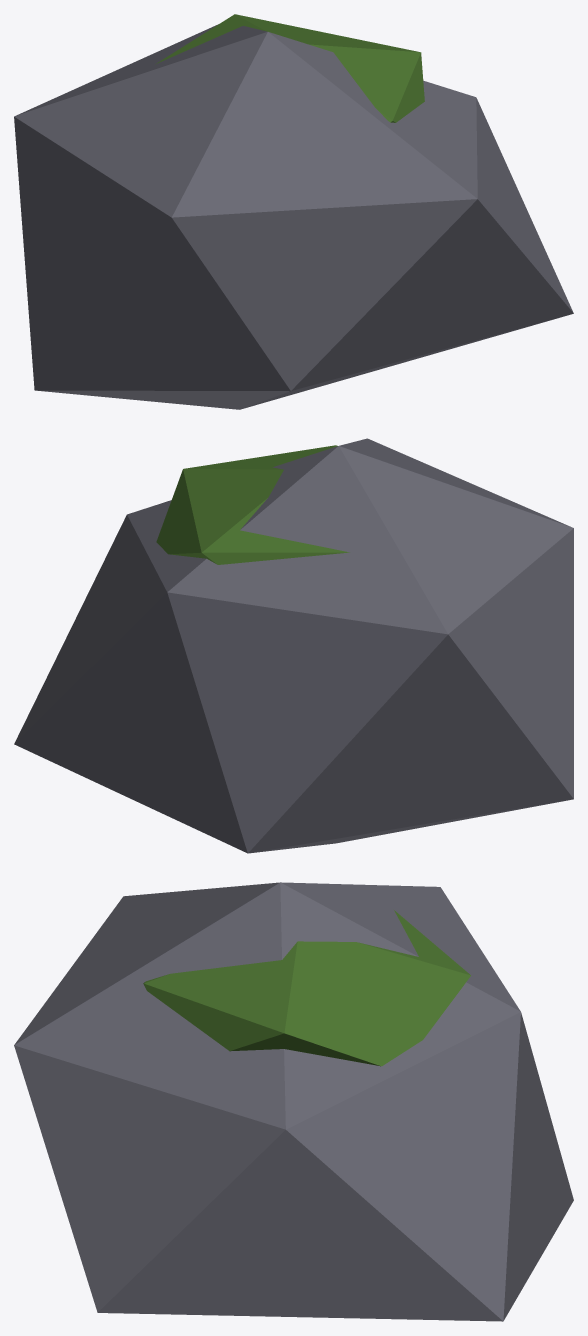
Rendered from mossy_boulder.glb.
3 views of the same model, one above another, from view 1: azimuth 30°, elevation 25°; view 2: azimuth 150°, elevation 25°; view 3: azimuth 270°, elevation 25° (orthographic). The views are drawn at different scales.
Visible parts, largest first — view 1: mossy_boulder; view 2: mossy_boulder; view 3: mossy_boulder.
Part boxes in pixels (x1,y1,x2,y2): mossy_boulder: (14, 14, 573, 409); mossy_boulder: (14, 438, 573, 853); mossy_boulder: (14, 882, 573, 1321).
Bounding box in the file's own units: 1.52 × 1.21 × 1.42.
